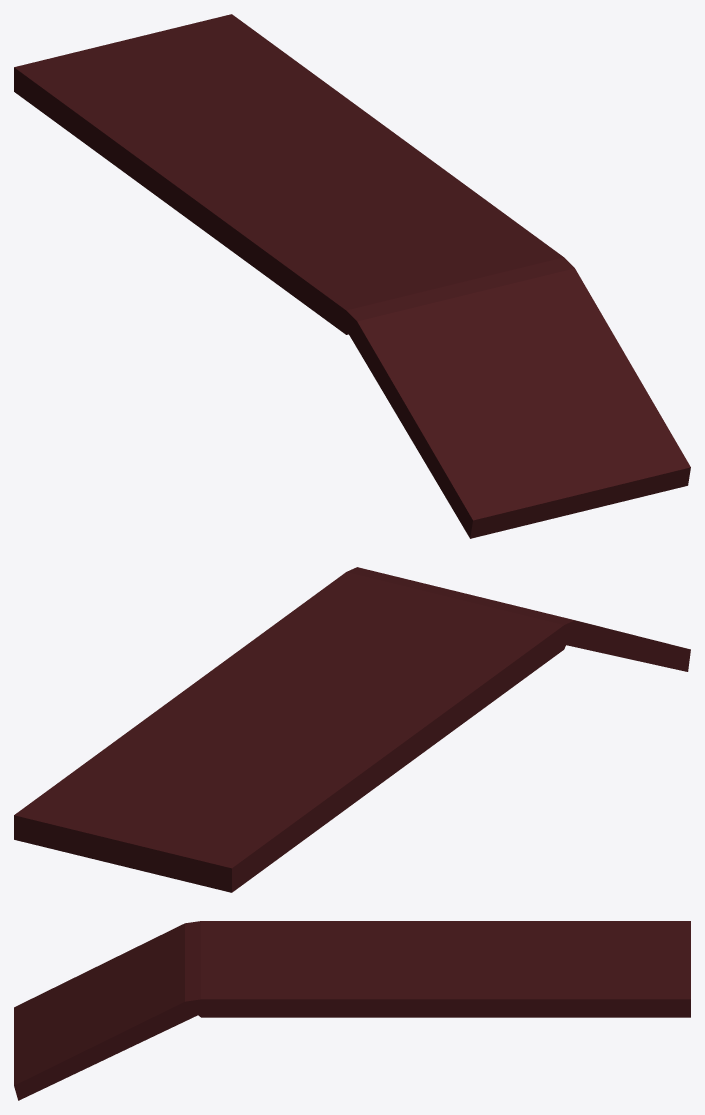
Rendered from estante4.fbx.
3 views of the same model, one above another, from view 1: azimuth 30°, elevation 25°; view 2: azimuth 150°, elevation 25°; view 3: azimuth 270°, elevation 25° (orthographic). The views are drawn at different scales.
Parts seen in each view (by area): view 1: Cube.017; view 2: Cube.017; view 3: Cube.017.
Boxes of the visible parts, left/top/right/bottom form: Cube.017: left=14, top=14, right=690, bottom=538; Cube.017: left=14, top=567, right=690, bottom=892; Cube.017: left=14, top=921, right=690, bottom=1100.
Bounding box in the file's own units: 682 × 412 × 2489.
